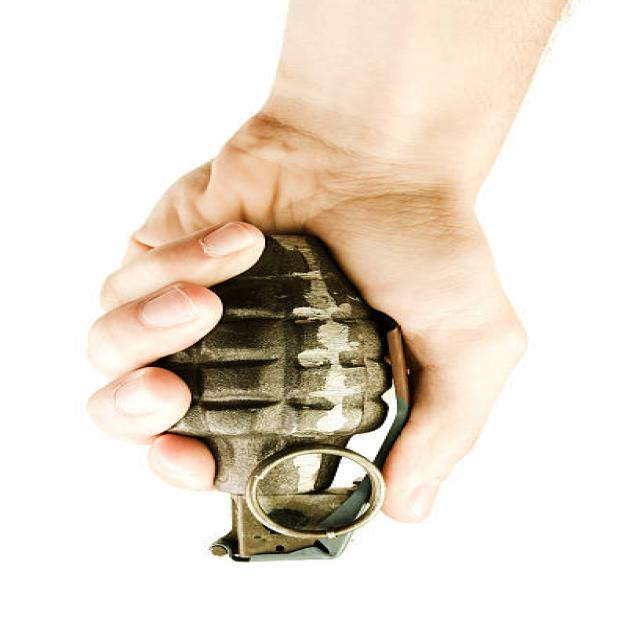grenade: (151, 234, 425, 572)
